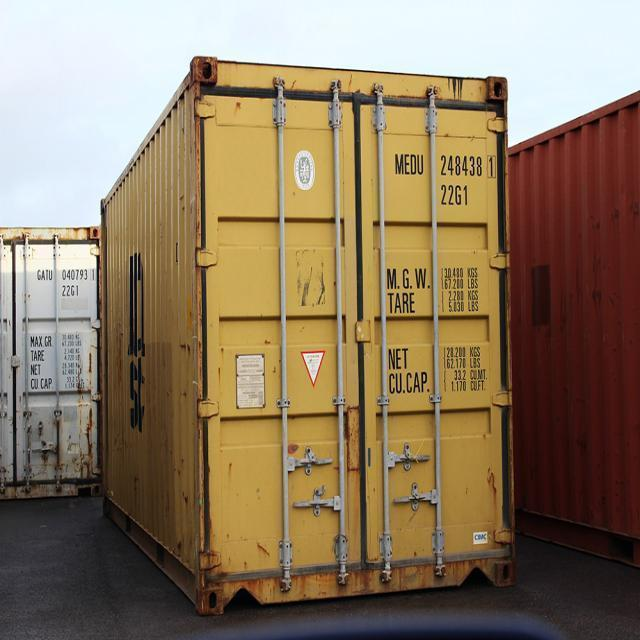ISO: (440, 182, 473, 208)
container_number: (394, 153, 492, 177), (31, 266, 92, 283)
